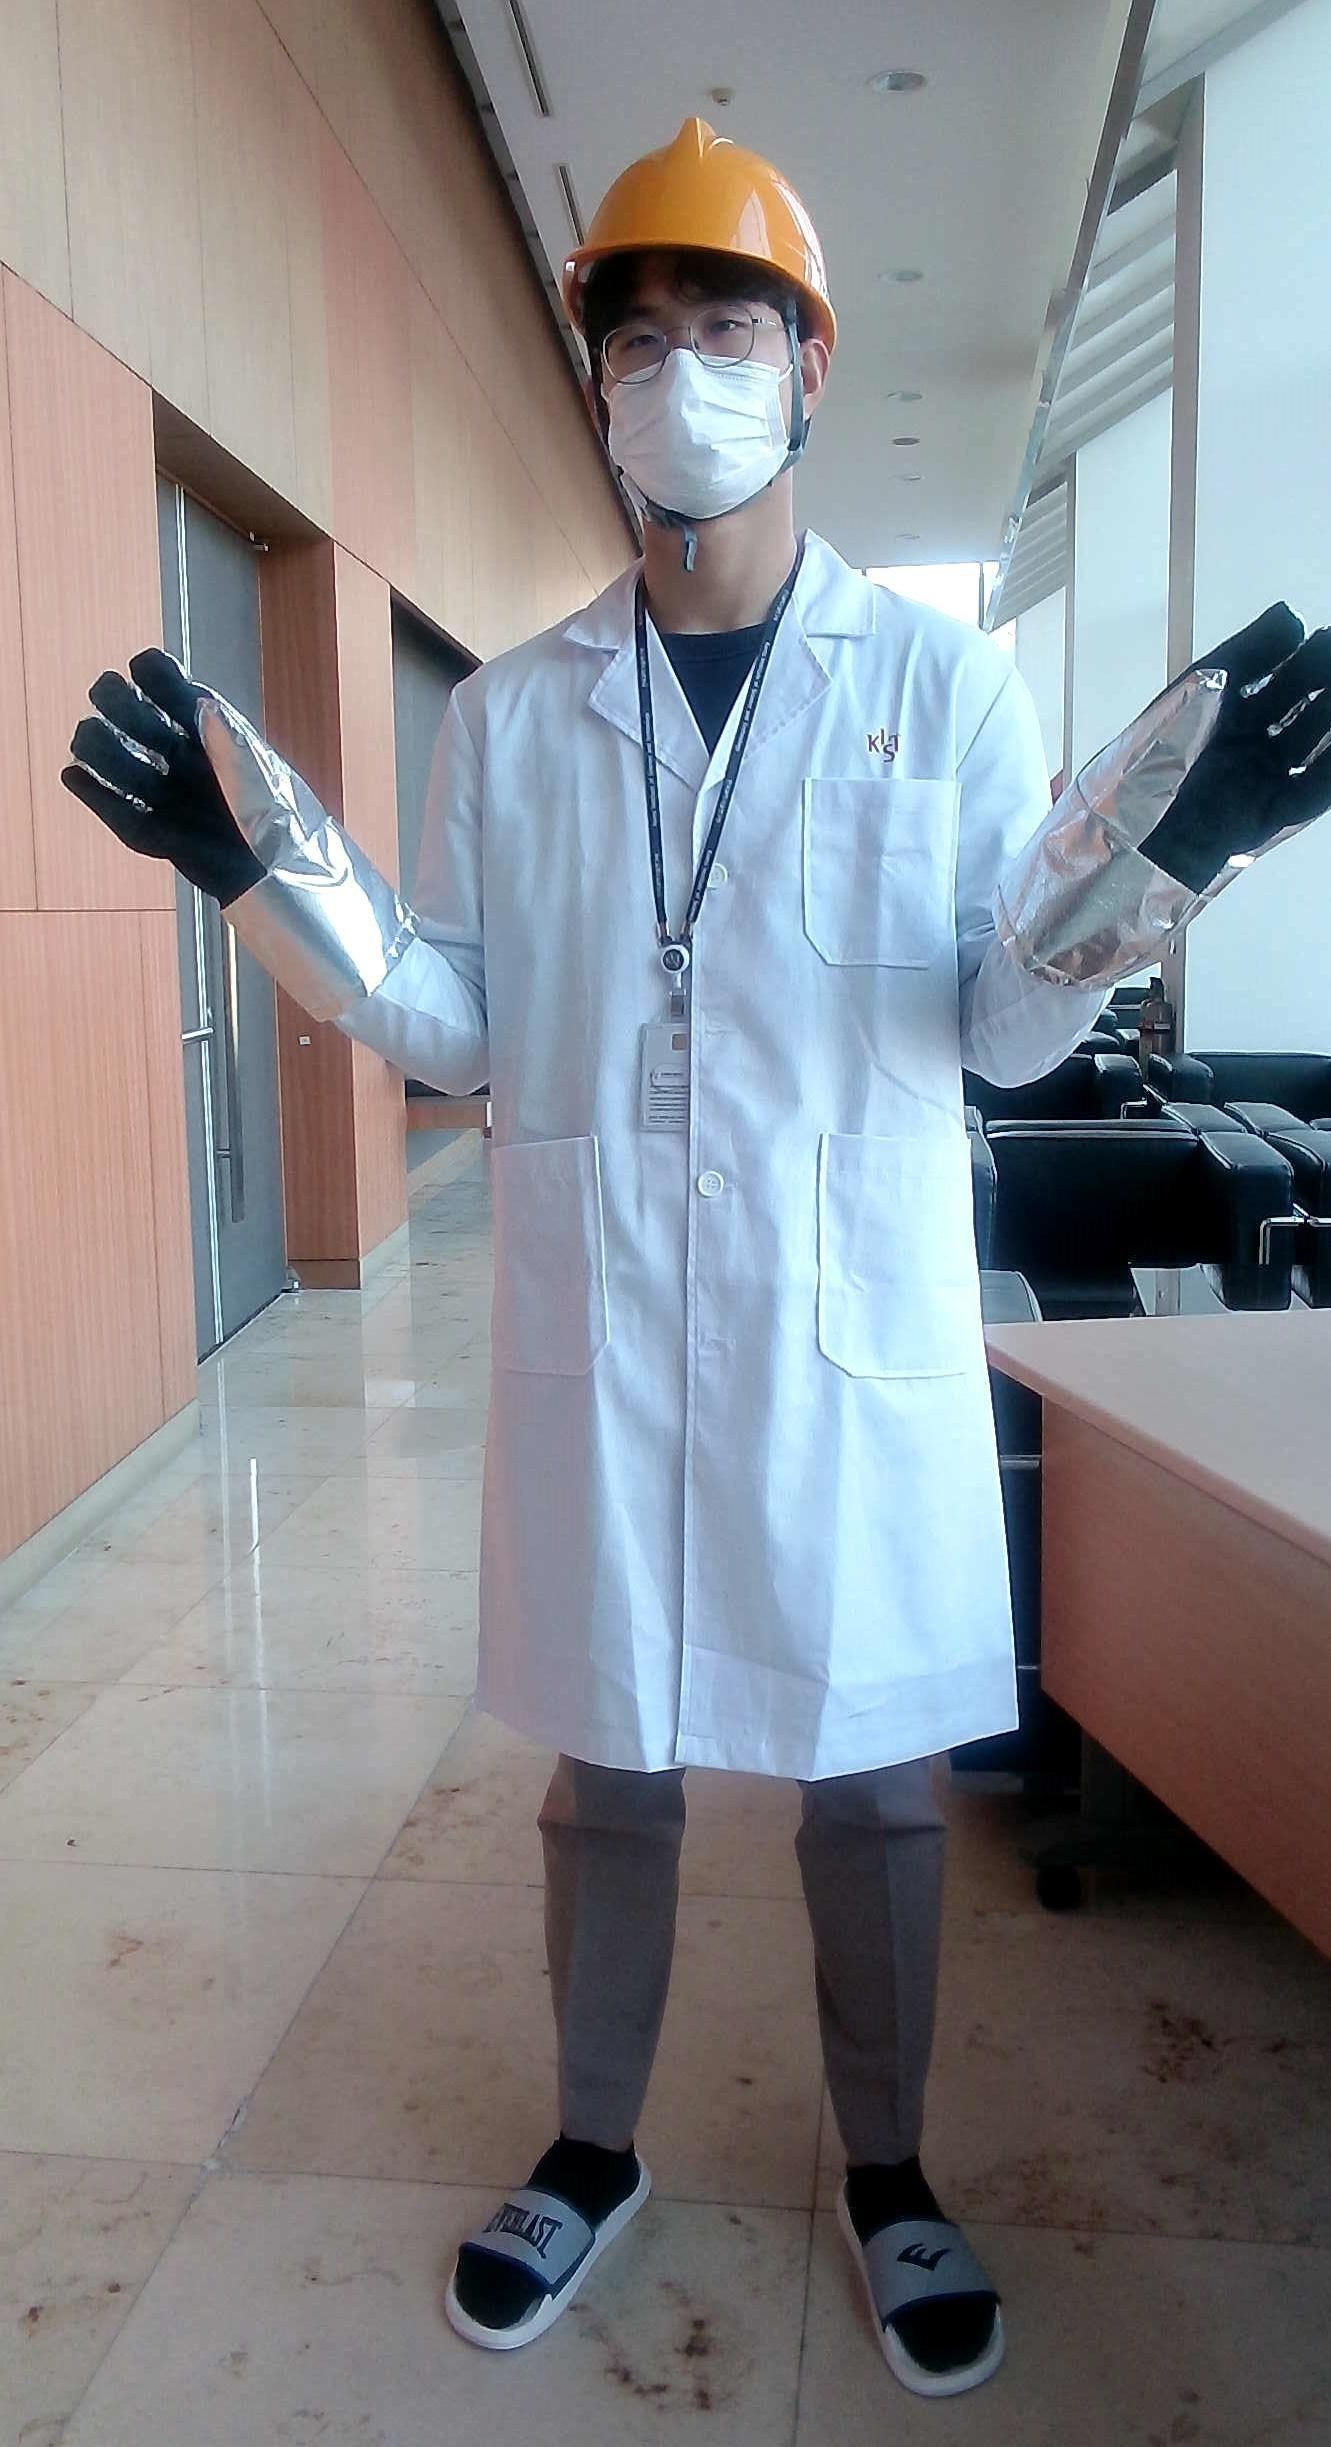lab_coat: (370, 551, 1031, 1750)
